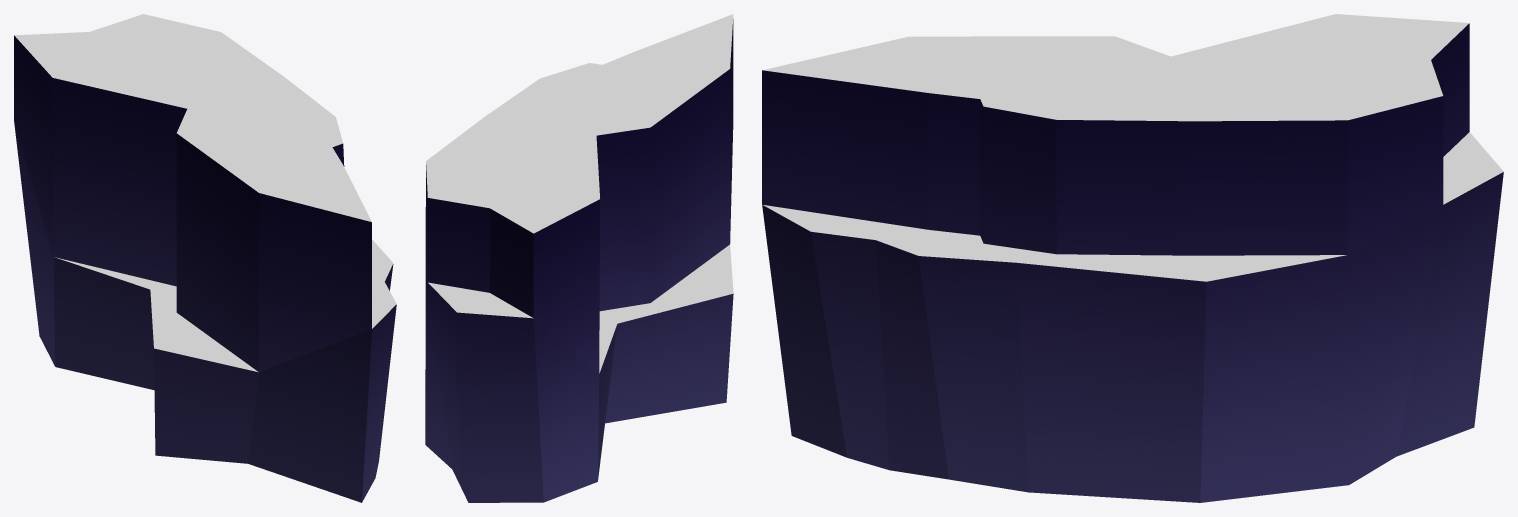
File: MOD_Island3.fbx
3 views of the same model, side by side, from view 1: azimuth 30°, elevation 25°; view 2: azimuth 150°, elevation 25°; view 3: azimuth 270°, elevation 25° (orthographic). The views are drawn at different scales.
Visible parts, largest first — view 1: MOD_Isalnd3; view 2: MOD_Isalnd3; view 3: MOD_Isalnd3.
Part boxes in pixels (<box>): MOD_Isalnd3: <box>14,14,396,502</box>; MOD_Isalnd3: <box>425,14,733,502</box>; MOD_Isalnd3: <box>762,14,1503,502</box>.
Size of the model in its own units: 2.13 by 2.51 by 4.63.
2 materials, 1 textured.
